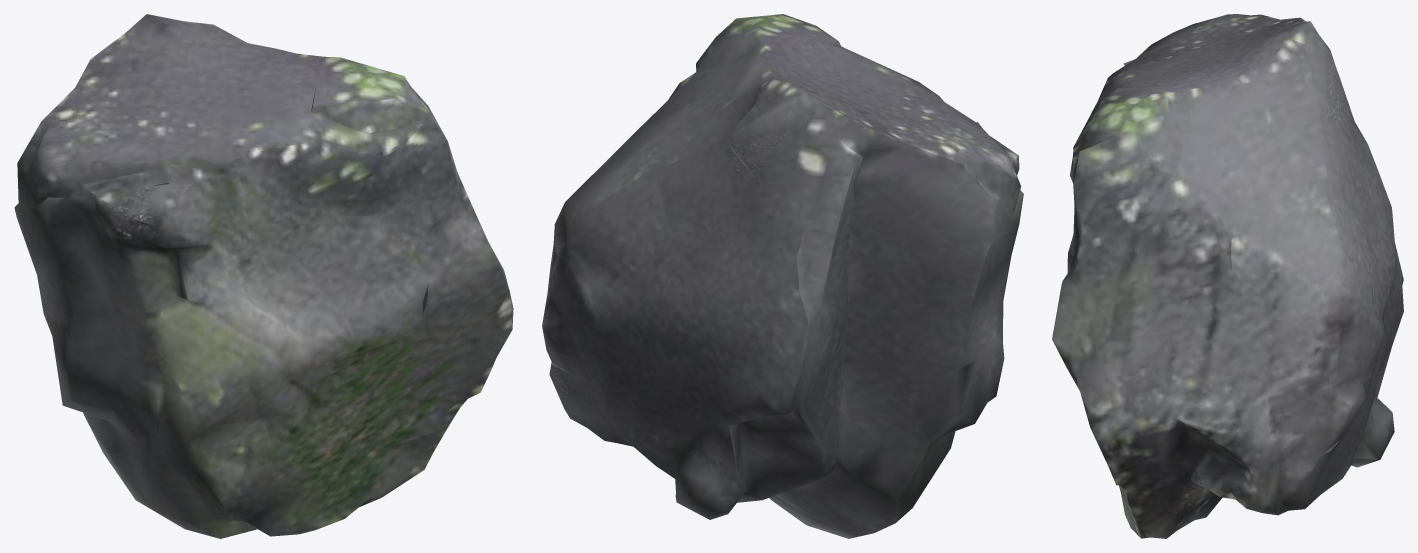
File: lichen-rock-balanced.glb
The picture shows the model from 3 angles, left to right: view 1: azimuth 30°, elevation 25°; view 2: azimuth 150°, elevation 25°; view 3: azimuth 270°, elevation 25°; orthographic projection. The views are drawn at different scales.
Parts seen in each view (by area): view 1: lichen-rock-balanced; view 2: lichen-rock-balanced; view 3: lichen-rock-balanced.
Part boxes in pixels (<box>): lichen-rock-balanced: <box>14,14,513,538</box>; lichen-rock-balanced: <box>542,14,1023,538</box>; lichen-rock-balanced: <box>1052,14,1403,538</box>.
Size of the model in its own units: 0.9312 by 1 by 0.6745.
Materials: 1 (1 with a texture image).
